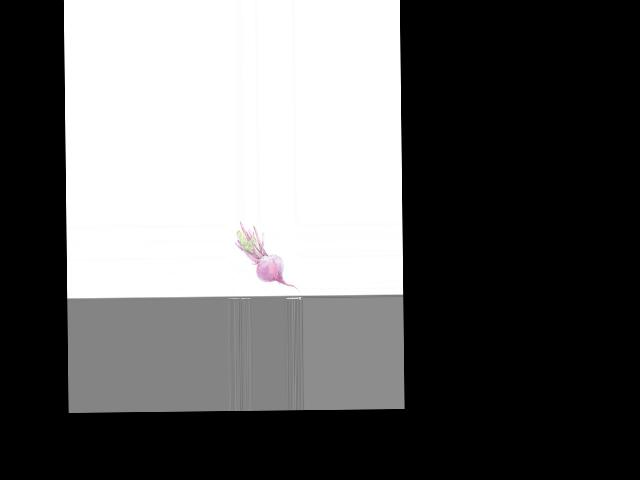beet: (234, 220, 299, 292)
